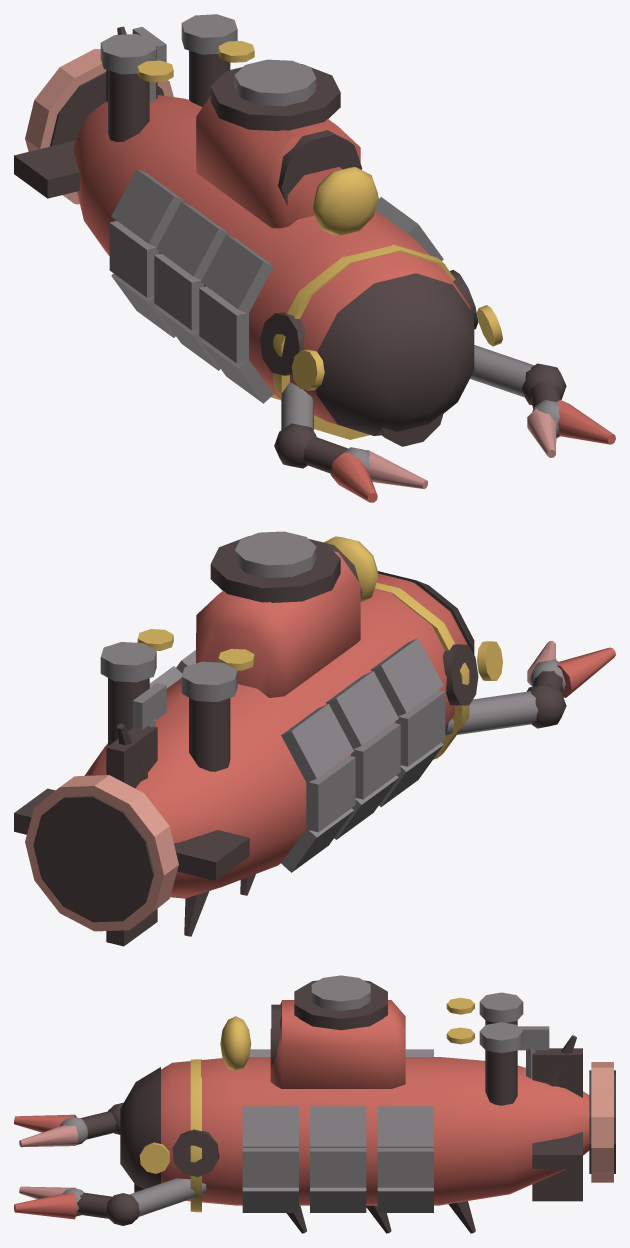
The model's file is submarines_VentCrawler.glb.
3 views of the same model, one above another, from view 1: azimuth 30°, elevation 25°; view 2: azimuth 150°, elevation 25°; view 3: azimuth 270°, elevation 25° (orthographic). The views are drawn at different scales.
Parts seen in each view (by area): view 1: Hull, Hull_Glow; view 2: Hull, Hull_Glow; view 3: Hull, Hull_Glow.
Part boxes in pixels (<box>): Hull: <box>14,14,615,502</box>; Hull_Glow: <box>137,41,502,439</box>; Hull: <box>14,531,615,946</box>; Hull_Glow: <box>137,536,502,759</box>; Hull: <box>14,975,615,1233</box>; Hull_Glow: <box>139,997,474,1212</box>.
Size of the model in its own units: 17.7 by 19.18 by 42.81.
